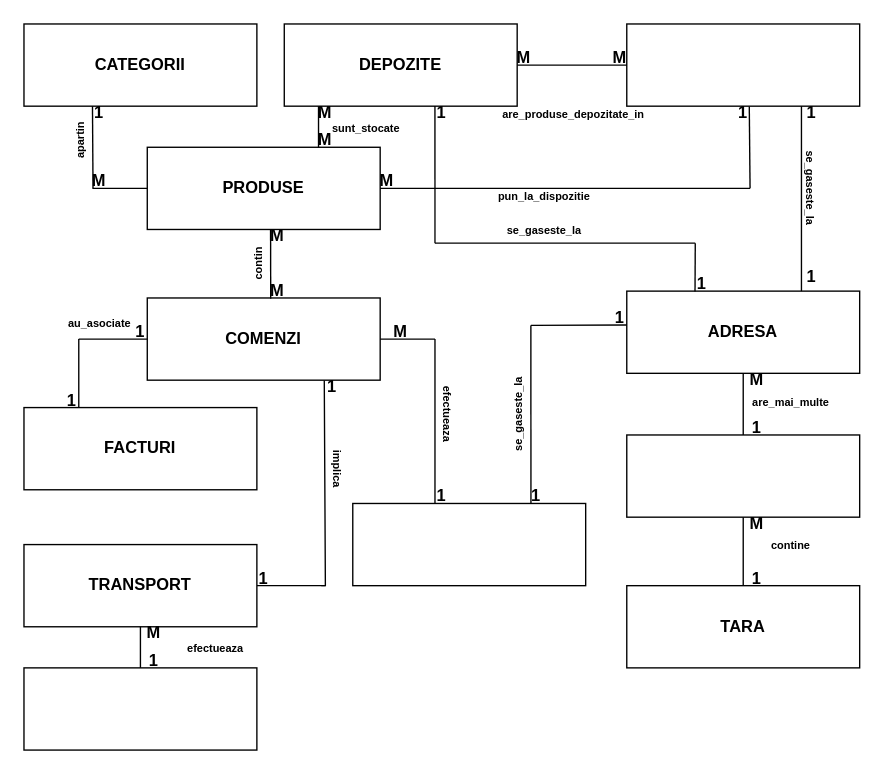
This 884x774 diagram has some shape labels left out. Each missing label, with the centre of its shape:
CLIENTI: (x=468, y=544)
CURIERI: (x=140, y=708)
ORAS: (x=742, y=475)
VANZATORI: (x=742, y=64)
